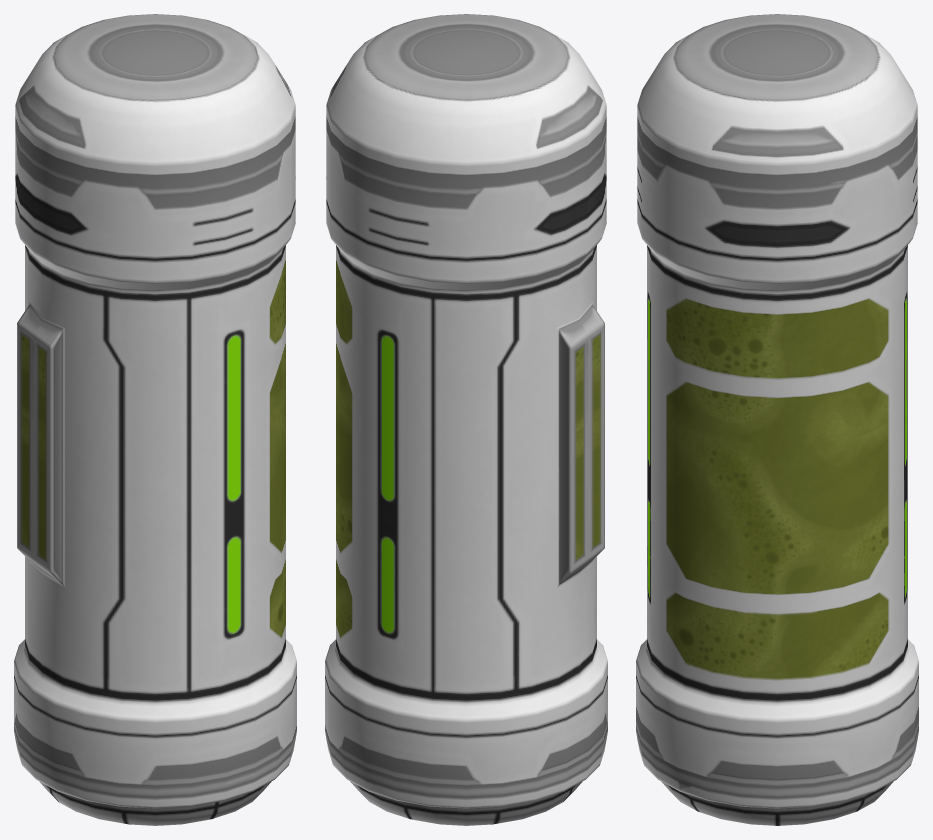
The model's file is SM_LabBarrels01_1.FBX.
3 views of the same model, side by side, from view 1: azimuth 30°, elevation 25°; view 2: azimuth 150°, elevation 25°; view 3: azimuth 270°, elevation 25° (orthographic).
Visible parts, largest first — view 1: SM_LabBarrels01_1; view 2: SM_LabBarrels01_1; view 3: SM_LabBarrels01_1.
Part boxes in pixels (<box>): SM_LabBarrels01_1: <box>14,14,296,825</box>; SM_LabBarrels01_1: <box>325,14,607,825</box>; SM_LabBarrels01_1: <box>636,14,918,825</box>.
Size of what is drawn, in the model's own units: 39.42 by 39.42 by 112.
